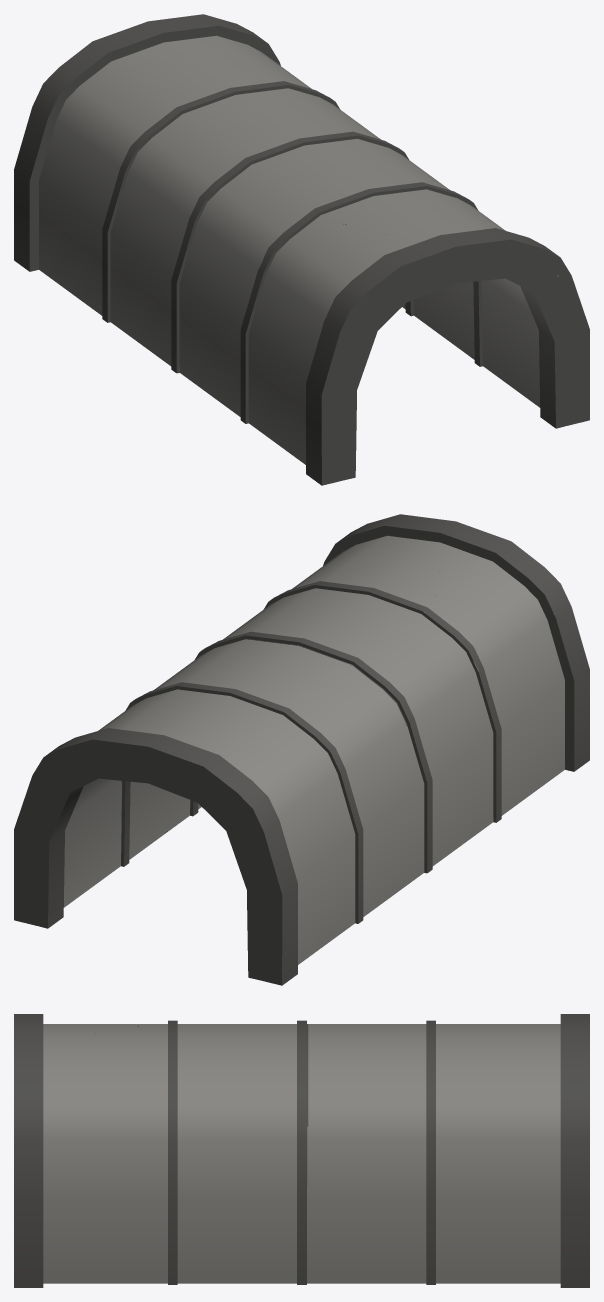
Rendered from Tunel.fbx.
The picture shows the model from 3 angles, top to bottom: view 1: azimuth 30°, elevation 25°; view 2: azimuth 150°, elevation 25°; view 3: azimuth 270°, elevation 25°; orthographic projection. The views are drawn at different scales.
Visible parts, largest first — view 1: Tunel; view 2: Tunel; view 3: Tunel.
Part boxes in pixels (box(x1,y1,x2,y2)): Tunel: box(14, 14, 589, 485); Tunel: box(14, 514, 589, 985); Tunel: box(14, 1014, 589, 1287).
Size of the model in its own units: 2101 by 1546 by 4176.
1 material, 1 textured.
